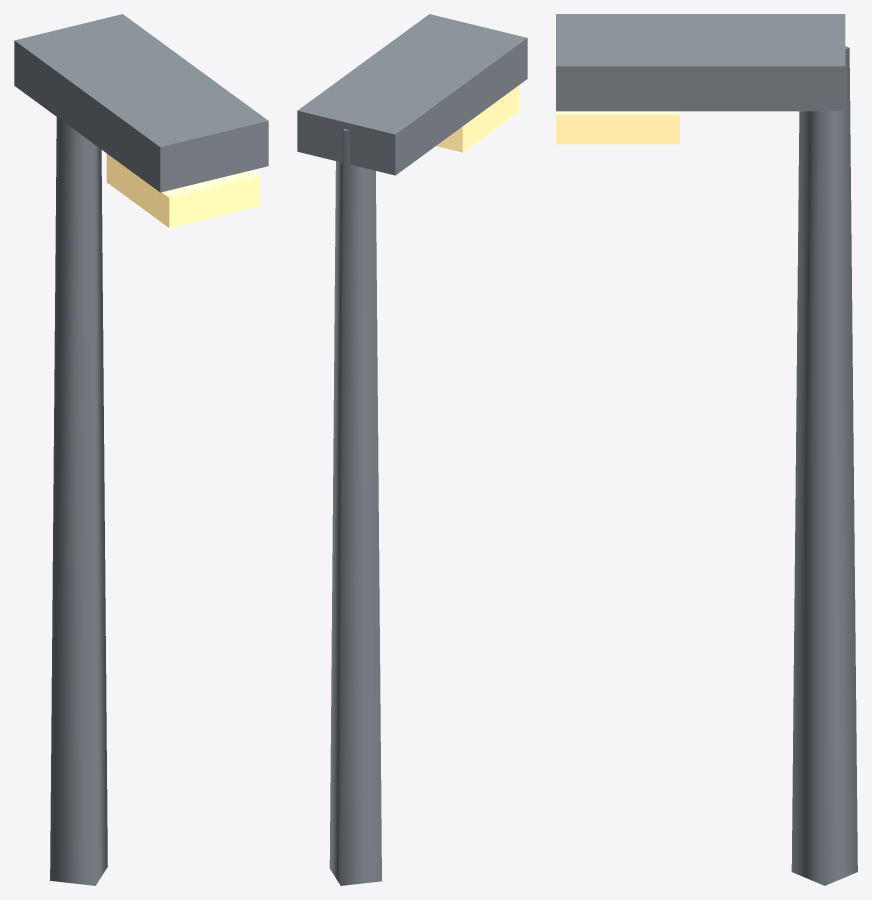
File: infra_streetlamp.glb
3 renders of one model, left to right at view 1: azimuth 30°, elevation 25°; view 2: azimuth 150°, elevation 25°; view 3: azimuth 270°, elevation 25°, orthographic. The views are drawn at different scales.
Visible parts, largest first — view 1: infra_streetlamp; view 2: infra_streetlamp; view 3: infra_streetlamp.
Boxes of the visible parts, x1,y1,x2,y2 form: infra_streetlamp: [14, 14, 268, 885]; infra_streetlamp: [297, 14, 527, 885]; infra_streetlamp: [556, 14, 857, 885].
Size of the model in its own units: 0.03 by 0.222 by 0.073.
